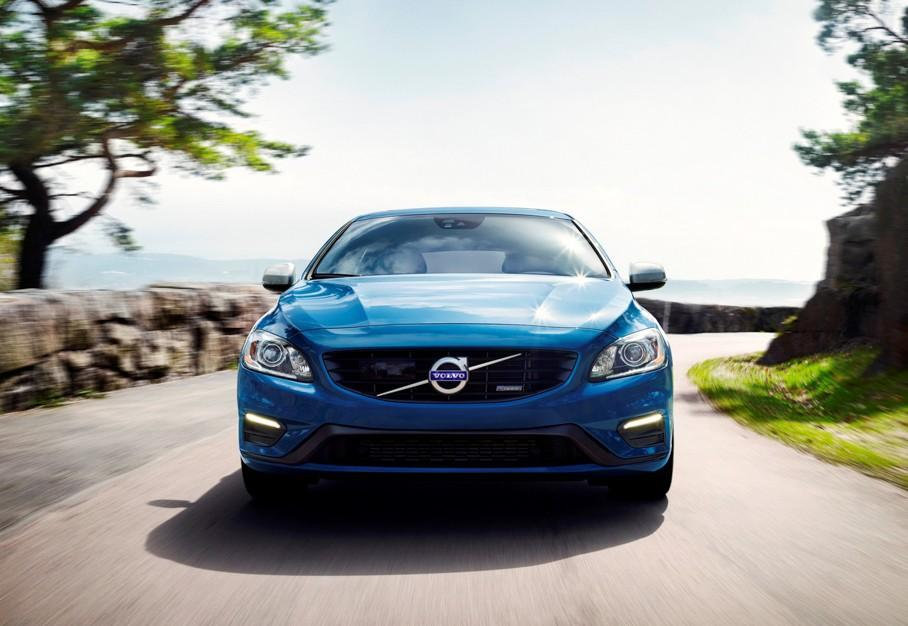Wagon: (236, 208, 674, 499)
